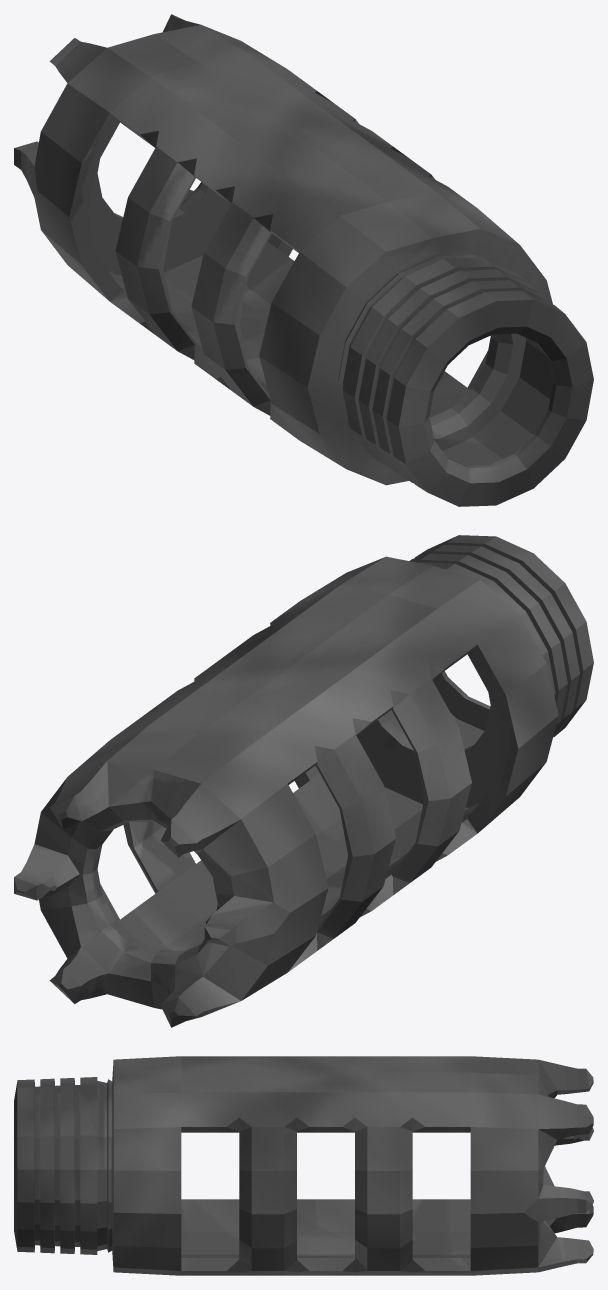
File: ZenitDTK-1.fbx
3 views of the same model, one above another, from view 1: azimuth 30°, elevation 25°; view 2: azimuth 150°, elevation 25°; view 3: azimuth 270°, elevation 25° (orthographic). The views are drawn at different scales.
Parts seen in each view (by area): view 1: ZenitDTK-1; view 2: ZenitDTK-1; view 3: ZenitDTK-1.
Part boxes in pixels (x1,y1,x2,y2): ZenitDTK-1: [14, 14, 593, 506]; ZenitDTK-1: [14, 535, 593, 1027]; ZenitDTK-1: [14, 1056, 593, 1275].
Size of the model in its own units: 30.09 by 27.24 by 76.56.
1 material, 1 textured.
